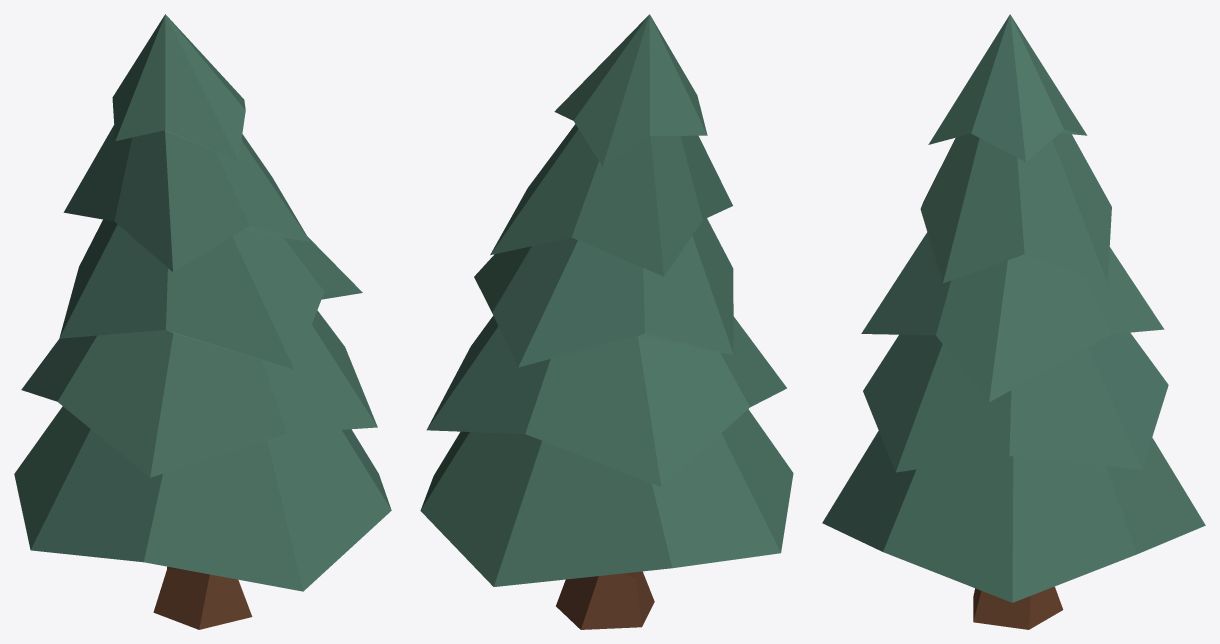
Rendered from Tree_Large.fbx.
3 views of the same model, side by side, from view 1: azimuth 30°, elevation 25°; view 2: azimuth 150°, elevation 25°; view 3: azimuth 270°, elevation 25° (orthographic). The views are drawn at different scales.
Parts seen in each view (by area): view 1: Tree_Large; view 2: Tree_Large; view 3: Tree_Large.
Boxes of the visible parts, x1,y1,x2,y2 form: Tree_Large: (14, 14, 391, 629); Tree_Large: (420, 14, 793, 629); Tree_Large: (822, 14, 1205, 629).
Bounding box in the file's own units: 0.9515 × 1.58 × 0.9539.
